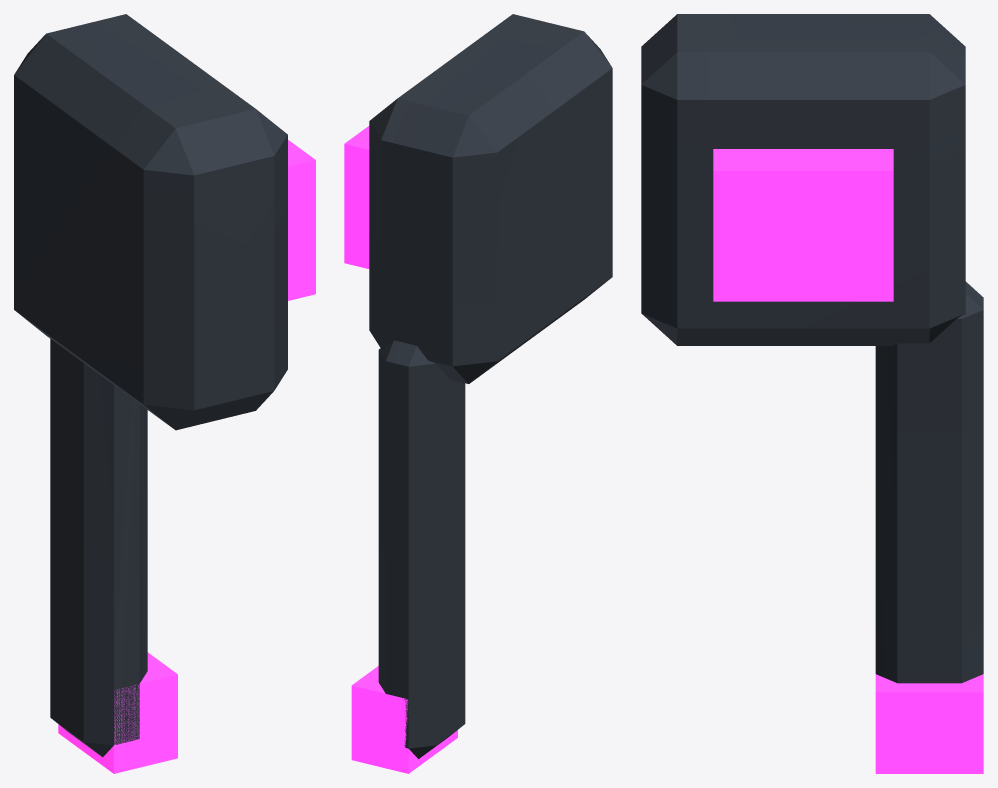
The model's file is implant.temple.neural_jack.glb.
3 renders of one model, left to right at view 1: azimuth 30°, elevation 25°; view 2: azimuth 150°, elevation 25°; view 3: azimuth 270°, elevation 25°, orthographic. The views are drawn at different scales.
Visible parts, largest first — view 1: head@neural_jack.base, head@neural_jack.emissive.magenta; view 2: head@neural_jack.base, head@neural_jack.emissive.magenta; view 3: head@neural_jack.base, head@neural_jack.emissive.magenta.
Part boxes in pixels (<box>): head@neural_jack.base: <box>14,14,287,757</box>; head@neural_jack.emissive.magenta: <box>58,140,315,773</box>; head@neural_jack.base: <box>369,14,612,758</box>; head@neural_jack.emissive.magenta: <box>344,126,457,773</box>; head@neural_jack.base: <box>641,14,983,683</box>; head@neural_jack.emissive.magenta: <box>713,149,983,773</box>.
Size of the model in its own units: 0.0506 by 0.1849 by 0.0808.
